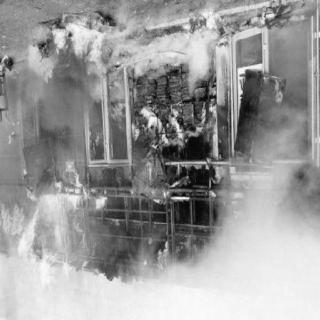Smoke: (53, 74, 80, 130)
